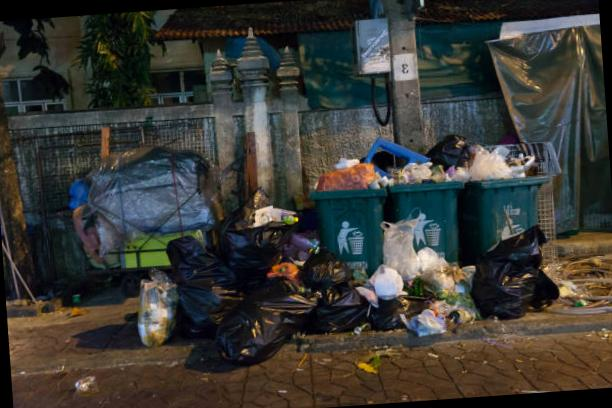trash: (117, 216, 462, 374), (207, 281, 326, 369), (472, 221, 558, 318), (236, 191, 304, 303), (183, 228, 244, 330), (128, 259, 182, 354), (319, 152, 384, 206), (367, 132, 421, 184), (494, 138, 546, 180), (474, 137, 522, 180), (411, 146, 459, 184), (444, 136, 480, 186)
trash_can_overflow: (373, 104, 494, 354), (295, 108, 406, 360), (445, 128, 572, 334)
